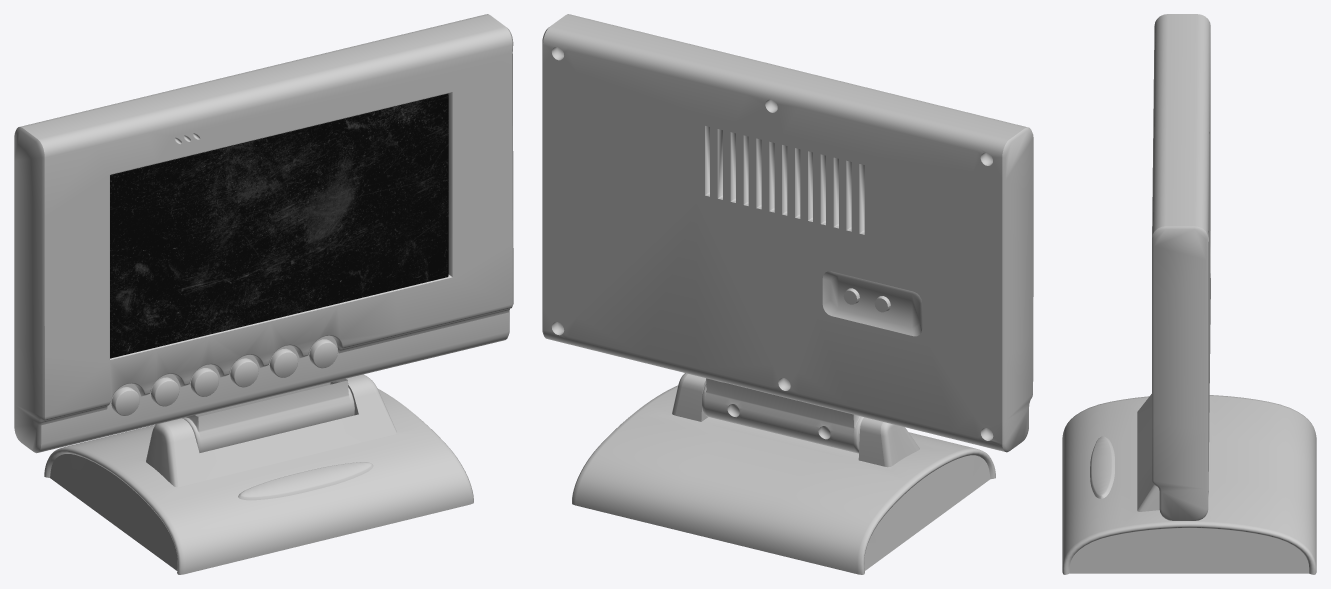
Rendered from WeatherStation.fbx.
3 views of the same model, side by side, from view 1: azimuth 30°, elevation 25°; view 2: azimuth 150°, elevation 25°; view 3: azimuth 270°, elevation 25° (orthographic). The views are drawn at different scales.
Parts seen in each view (by area): view 1: WeatherStat, WeatherStat_Glass, WeatherStat.001; view 2: WeatherStat, WeatherStat.001; view 3: WeatherStat.001, WeatherStat.
Part boxes in pixels (x1,y1,x2,y2): WeatherStat: [14, 14, 513, 453]; WeatherStat_Glass: [110, 93, 448, 358]; WeatherStat.001: [44, 374, 473, 574]; WeatherStat: [542, 14, 1033, 452]; WeatherStat.001: [572, 373, 995, 574]; WeatherStat.001: [1062, 394, 1316, 574]; WeatherStat: [1152, 14, 1210, 520].
Size of the model in its own units: 18.03 by 15.25 by 9.03.
